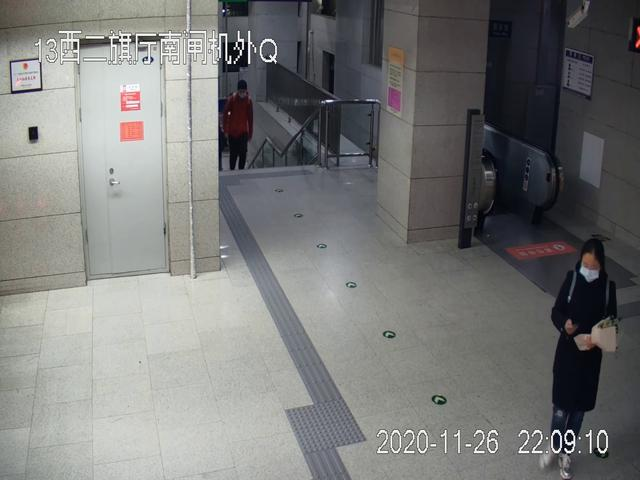person: (537, 238, 617, 477), (224, 78, 255, 172)
